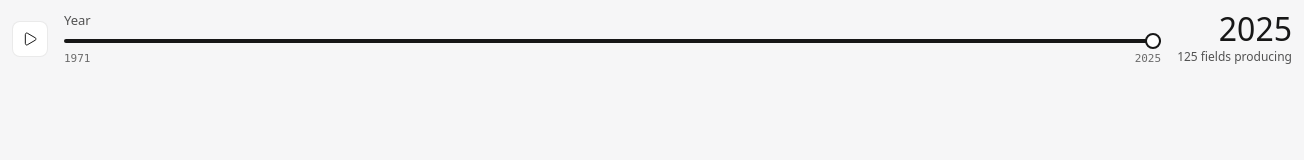
Test case: YearControl › starts again from the first year when play is pressed at the last year, then steps one year at a time
This screenshot has width=1304, height=160.
Later steps or results of the test are not shown.
Click the button named "Play through the years" at (30, 39), box 12,21 -> 48,57
Wait 440 ms
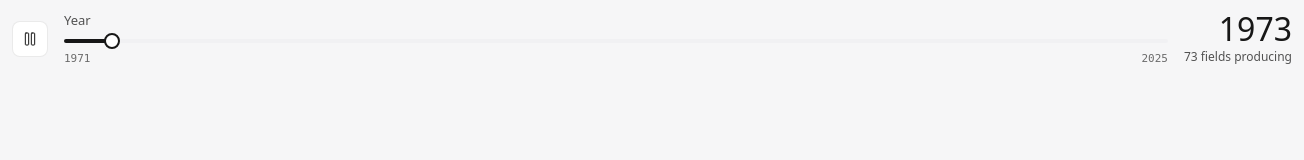
Expected: the slider labelled "Year" holds "1973", 64,38 -> 1168,42
